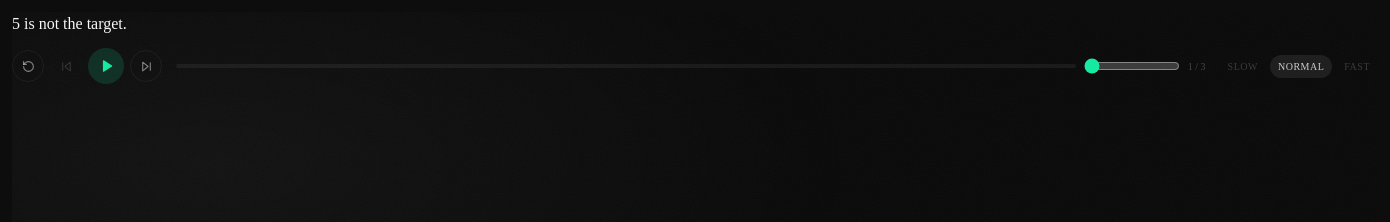
Scenario: AnimationPlayer › auto-advances while playing and auto-pauses on a match
Click the button named "Play animation" at (106, 66), box [88,48,124,84]
Wait 1800 ms
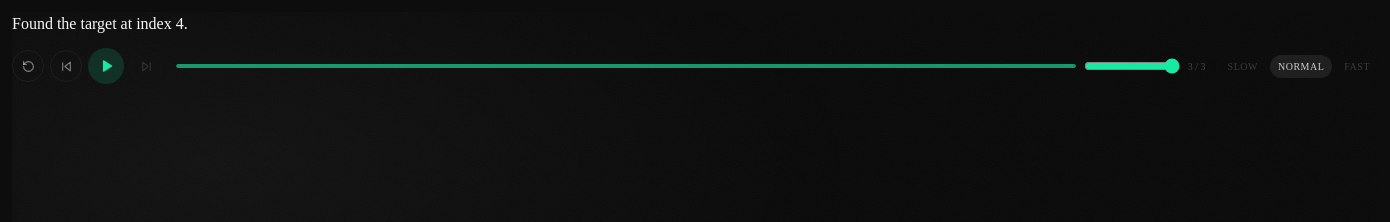
Check: the text "Found the target at index 4." is shown, box [12,15,188,32]
